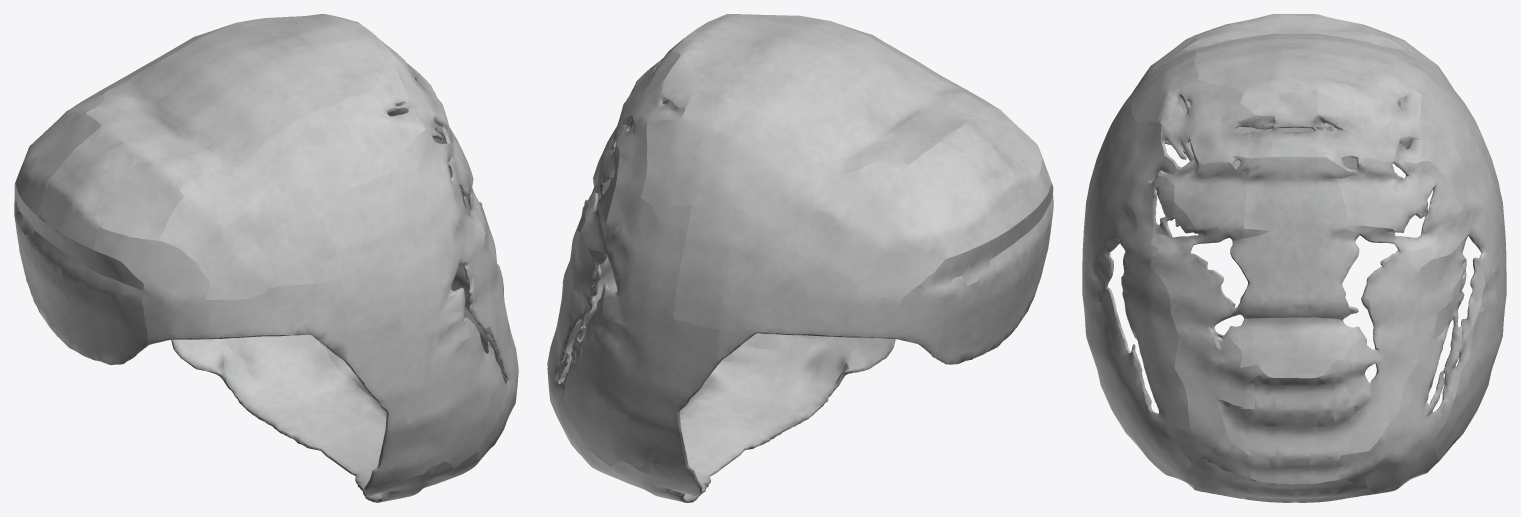
3 renders of one model, left to right at view 1: azimuth 30°, elevation 25°; view 2: azimuth 150°, elevation 25°; view 3: azimuth 270°, elevation 25°, orthographic. The views are drawn at different scales.
Parts seen in each view (by area): view 1: world; view 2: world; view 3: world.
Part boxes in pixels (x1,y1,x2,y2): world: [14, 14, 518, 502]; world: [547, 14, 1053, 502]; world: [1082, 14, 1506, 502].
Size of the model in its own units: 0.12 by 0.1129 by 0.1077.
Materials: 1 (1 with a texture image).
